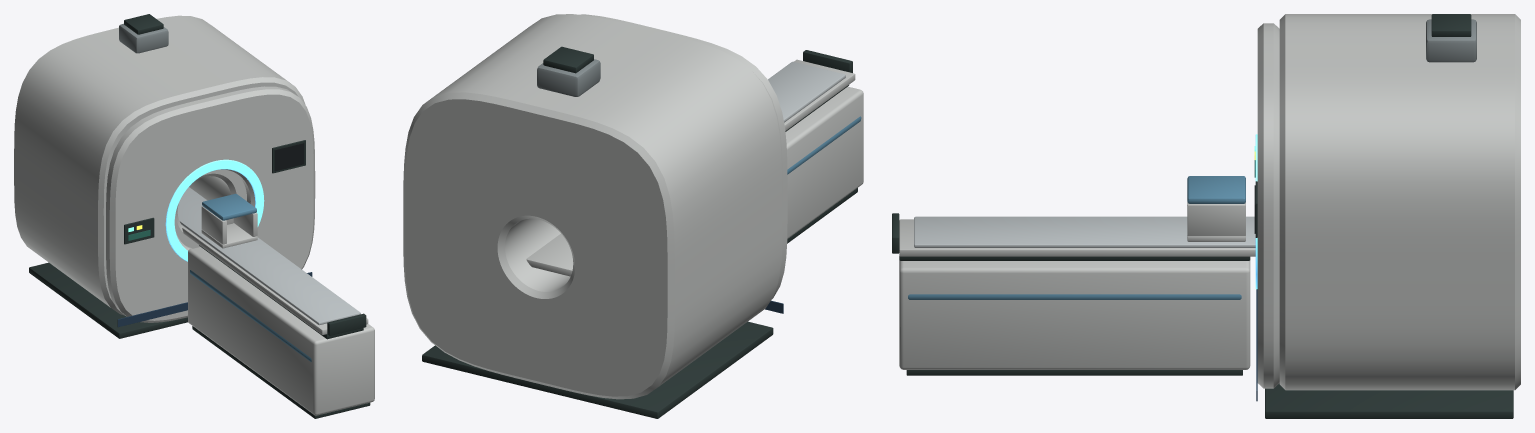
File: mri-scanner.glb
3 renders of one model, left to right at view 1: azimuth 30°, elevation 25°; view 2: azimuth 150°, elevation 25°; view 3: azimuth 270°, elevation 25°, orthographic. The views are drawn at different scales.
Visible parts, largest first — view 1: mri-scanner; view 2: mri-scanner; view 3: mri-scanner.
Part boxes in pixels (<box>): mri-scanner: <box>14,14,374,418</box>; mri-scanner: <box>403,14,863,418</box>; mri-scanner: <box>892,14,1520,418</box>.
Size of the model in its own units: 2.3 by 2.53 by 4.3.
